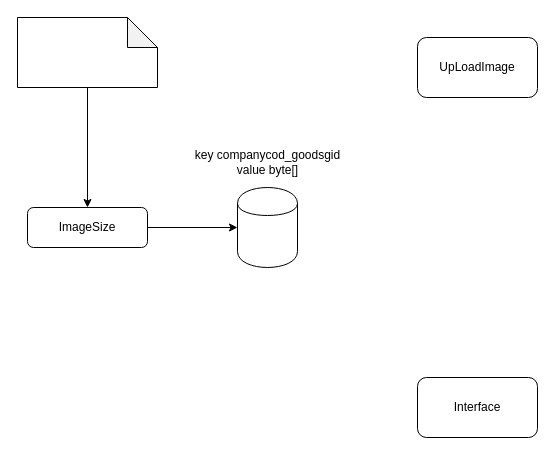
This 555x455 diagram has some shape labels left out. The centre of each missing label's shape, as x and y in pixels:
reids: point 267,227
美宜佳图片库(url): point 87,52
